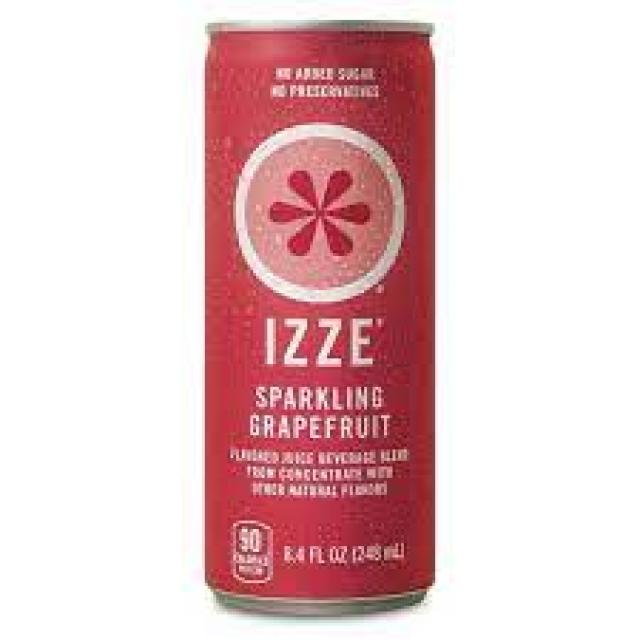Cans: (190, 8, 450, 623)
